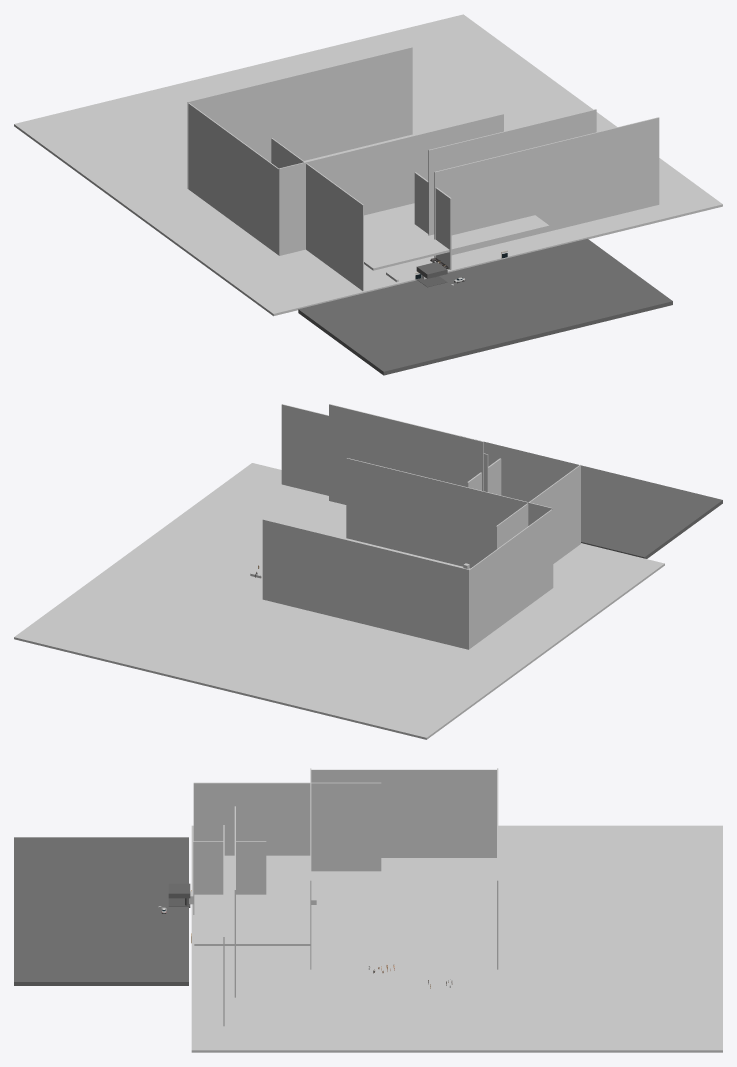
The model's file is staticmesh_sofa_l.gltf.
The picture shows the model from 3 angles, top to bottom: view 1: azimuth 30°, elevation 25°; view 2: azimuth 150°, elevation 25°; view 3: azimuth 270°, elevation 25°; orthographic projection. The views are drawn at different scales.
Parts seen in each view (by area): view 1: Whole Area-col, DrivewayGround-col, HotelMiddleWall-col.001, Cube.003, HotelMiddleWall-col, HotelWall, HotelWall.001, LobbyRoof, HotelWallHallwayLeft-col, Cube.004, Cube.005; view 2: Whole Area-col, Cube.003, HotelMiddleWall-col, DrivewayGround-col, HotelWallHallwayLeft-col, HotelWall, HotelMiddleWall-col.001, HotelWall.001; view 3: Whole Area-col, DrivewayGround-col, HotelWall.001, HotelWall, LobbyRoof, Cube.004, Cube.005.
Boxes of the visible parts, bbox=[...] form: Whole Area-col: bbox=[14, 14, 722, 316]; DrivewayGround-col: bbox=[298, 238, 672, 375]; HotelMiddleWall-col.001: bbox=[434, 117, 659, 257]; Cube.003: bbox=[187, 47, 412, 188]; HotelMiddleWall-col: bbox=[278, 114, 503, 255]; HotelWall: bbox=[188, 103, 278, 254]; HotelWall.001: bbox=[271, 138, 363, 290]; LobbyRoof: bbox=[364, 203, 549, 270]; HotelWallHallwayLeft-col: bbox=[428, 109, 596, 235]; Cube.004: bbox=[435, 187, 451, 269]; Cube.005: bbox=[414, 172, 428, 233]; Whole Area-col: bbox=[14, 463, 664, 739]; Cube.003: bbox=[262, 519, 469, 649]; HotelMiddleWall-col: bbox=[346, 458, 553, 587]; DrivewayGround-col: bbox=[483, 441, 722, 558]; HotelWallHallwayLeft-col: bbox=[329, 404, 483, 504]; HotelWall: bbox=[469, 509, 552, 648]; HotelMiddleWall-col.001: bbox=[281, 404, 488, 495]; HotelWall.001: bbox=[496, 464, 580, 563]; Whole Area-col: bbox=[191, 825, 722, 1052]; DrivewayGround-col: bbox=[14, 837, 188, 985]; HotelWall.001: bbox=[193, 782, 381, 871]; HotelWall: bbox=[311, 769, 496, 857]; LobbyRoof: bbox=[194, 855, 310, 945]; Cube.004: bbox=[193, 841, 223, 914]; Cube.005: bbox=[236, 841, 266, 894].
Size of what is drawn, in the model's own units: 210 by 48.64 by 280.
Materials: 9 (2 with a texture image).
